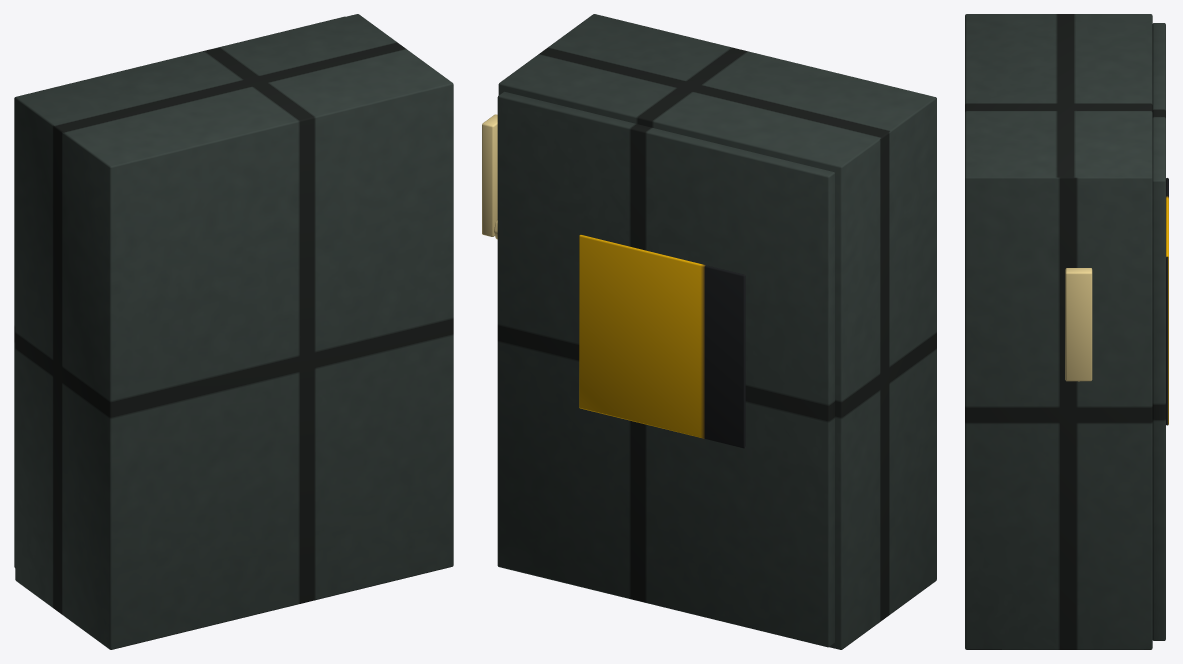
The model's file is WK_PROP_JUNCTION_A_01.glb.
The picture shows the model from 3 angles, left to right: view 1: azimuth 30°, elevation 25°; view 2: azimuth 150°, elevation 25°; view 3: azimuth 270°, elevation 25°; orthographic projection. The views are drawn at different scales.
Visible parts, largest first — view 1: WK_PROP_JUNCTION_A_01; view 2: WK_PROP_JUNCTION_A_01; view 3: WK_PROP_JUNCTION_A_01.
Boxes of the visible parts, <box> form: WK_PROP_JUNCTION_A_01: <box>14,14,453,649</box>; WK_PROP_JUNCTION_A_01: <box>482,14,936,649</box>; WK_PROP_JUNCTION_A_01: <box>965,14,1168,649</box>.
Size of the model in its own units: 0.66 by 0.78 by 0.3045.
Materials: 3 (2 with a texture image).
